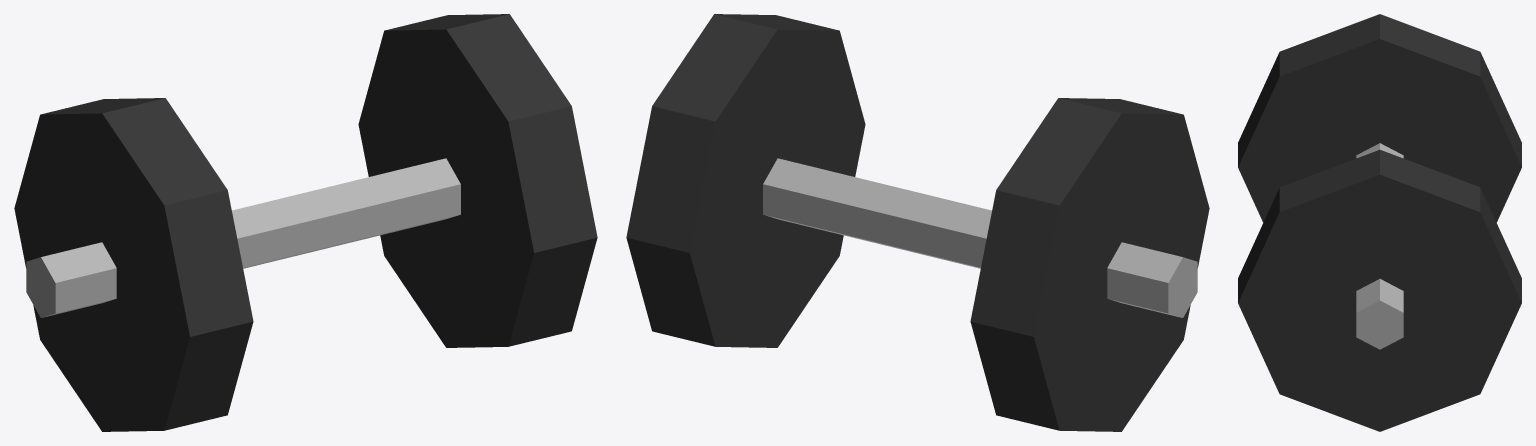
The model's file is Pesas01.fbx.
3 views of the same model, side by side, from view 1: azimuth 30°, elevation 25°; view 2: azimuth 150°, elevation 25°; view 3: azimuth 270°, elevation 25° (orthographic). The views are drawn at different scales.
Visible parts, largest first — view 1: Pesas01; view 2: Pesas01; view 3: Pesas01.
Boxes of the visible parts, box(x1,y1,x2,y2) form: Pesas01: box(14, 14, 597, 431); Pesas01: box(626, 14, 1209, 431); Pesas01: box(1238, 14, 1521, 431).
Bounding box in the file's own units: 0.2794 × 0.1622 × 0.1622.
